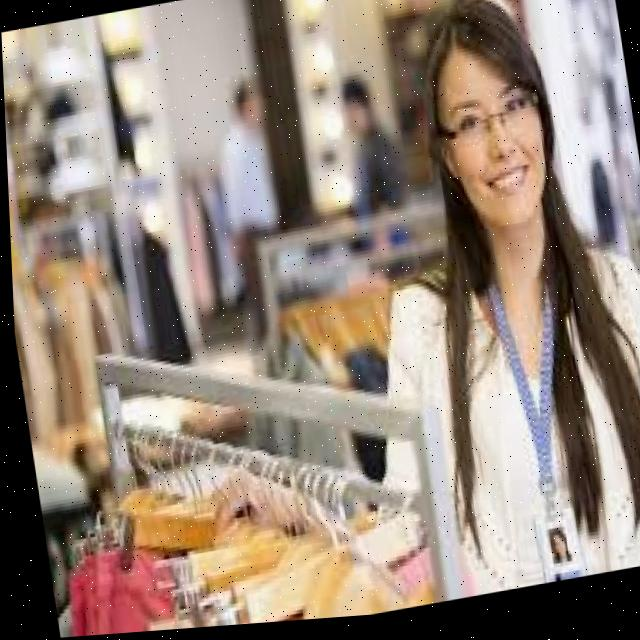id_card: (472, 263, 602, 594)
